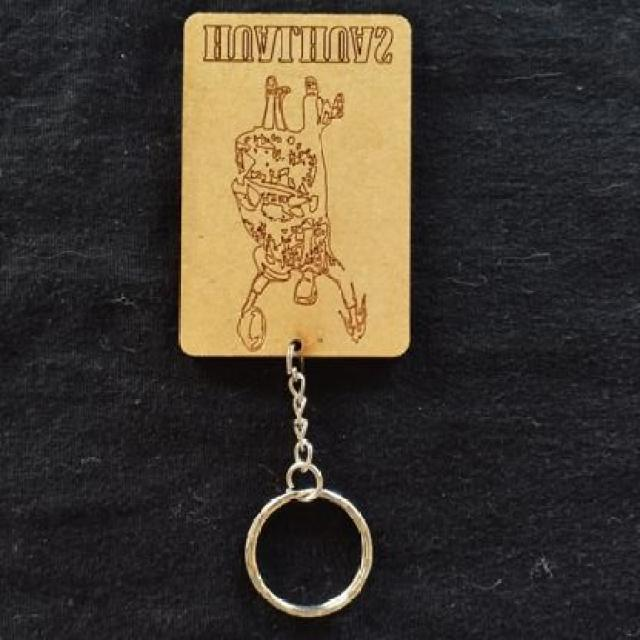Llavero: (228, 75, 366, 353)
